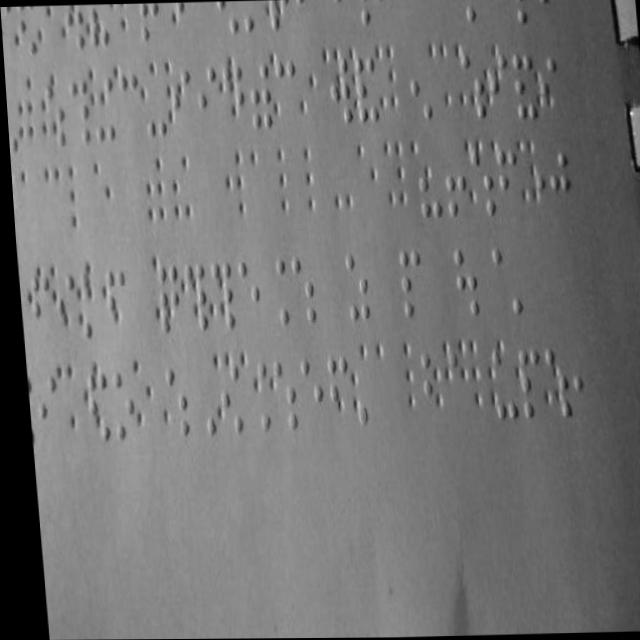braiile: (448, 243, 477, 317), (266, 354, 293, 433), (211, 361, 239, 437), (403, 348, 429, 428), (543, 146, 569, 225), (467, 149, 493, 225), (511, 48, 536, 127), (258, 253, 284, 328), (351, 54, 377, 128), (193, 62, 219, 136), (492, 147, 518, 221), (293, 356, 319, 430), (64, 76, 89, 152), (29, 372, 54, 448), (476, 245, 502, 317), (232, 257, 257, 331), (158, 364, 183, 438), (285, 254, 310, 326), (273, 53, 298, 123), (116, 68, 141, 138), (25, 272, 48, 342)
